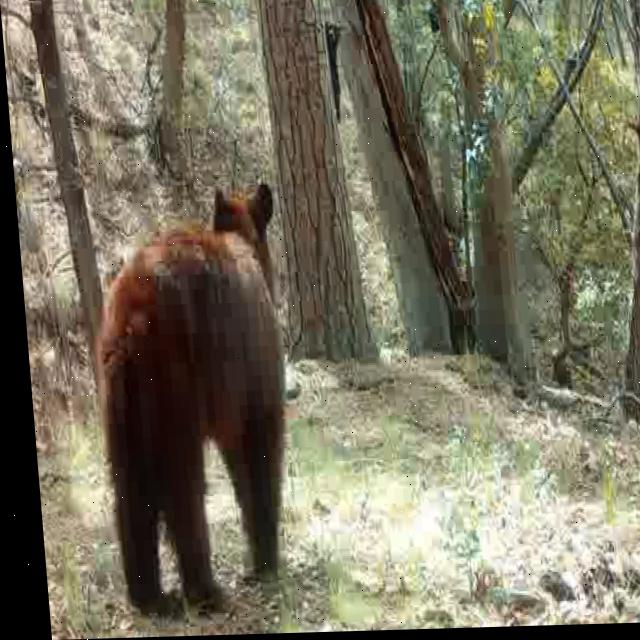bear face: (76, 182, 295, 620), (324, 20, 345, 109)
